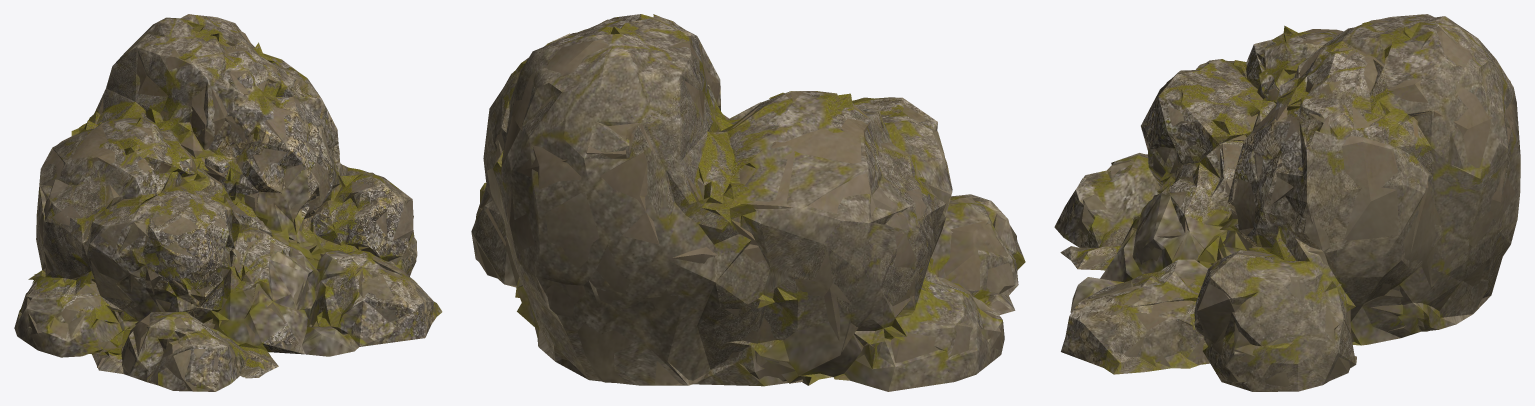
File: rocks.glb
3 views of the same model, side by side, from view 1: azimuth 30°, elevation 25°; view 2: azimuth 150°, elevation 25°; view 3: azimuth 270°, elevation 25° (orthographic). The views are drawn at different scales.
Visible parts, largest first — view 1: output_unwrapped; view 2: output_unwrapped; view 3: output_unwrapped.
Part boxes in pixels (bbox=[...]): output_unwrapped: bbox=[14, 14, 442, 391]; output_unwrapped: bbox=[471, 14, 1025, 391]; output_unwrapped: bbox=[1054, 14, 1520, 391].
Size of the model in its own units: 2.4 by 1.4 by 2.13.
1 material, 1 textured.
